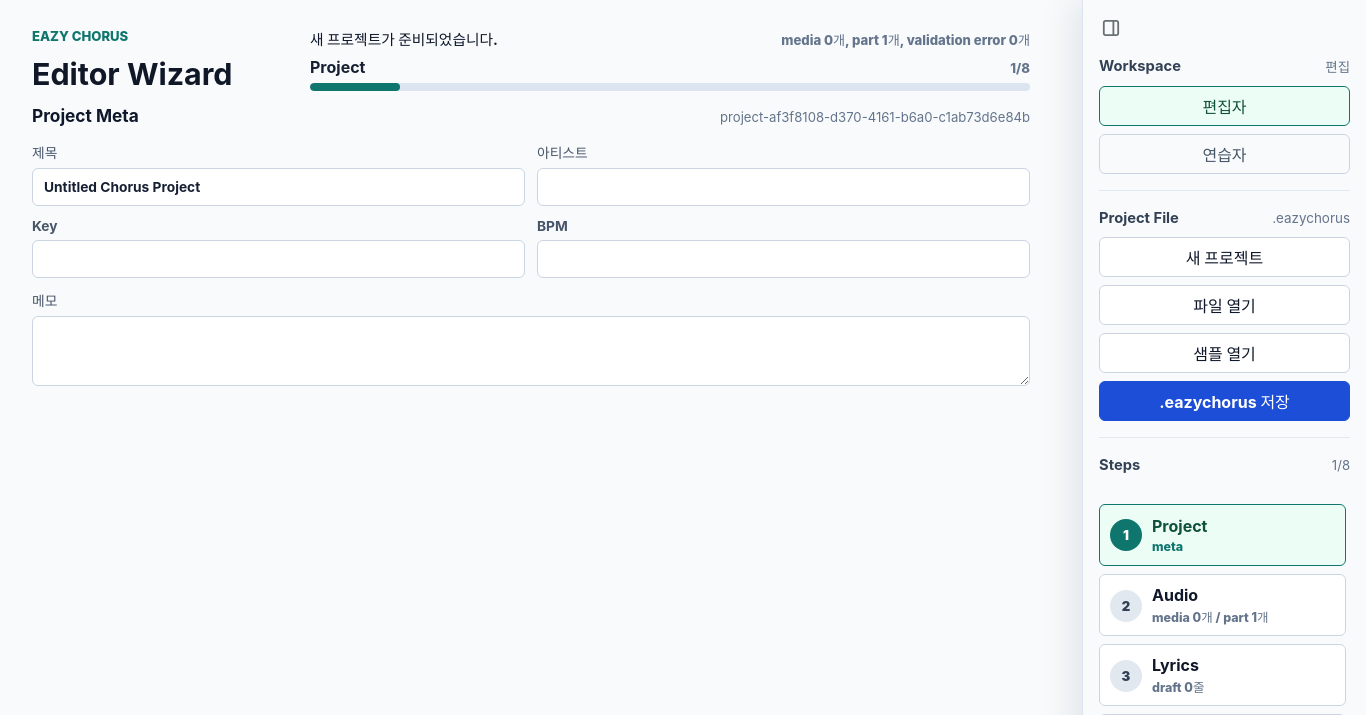
Scenario: HomePage › adds a part from the Audio step form
Click the button "2 Audio media 0개 / part 1개" at (1222, 605), box [1099, 574, 1346, 636]
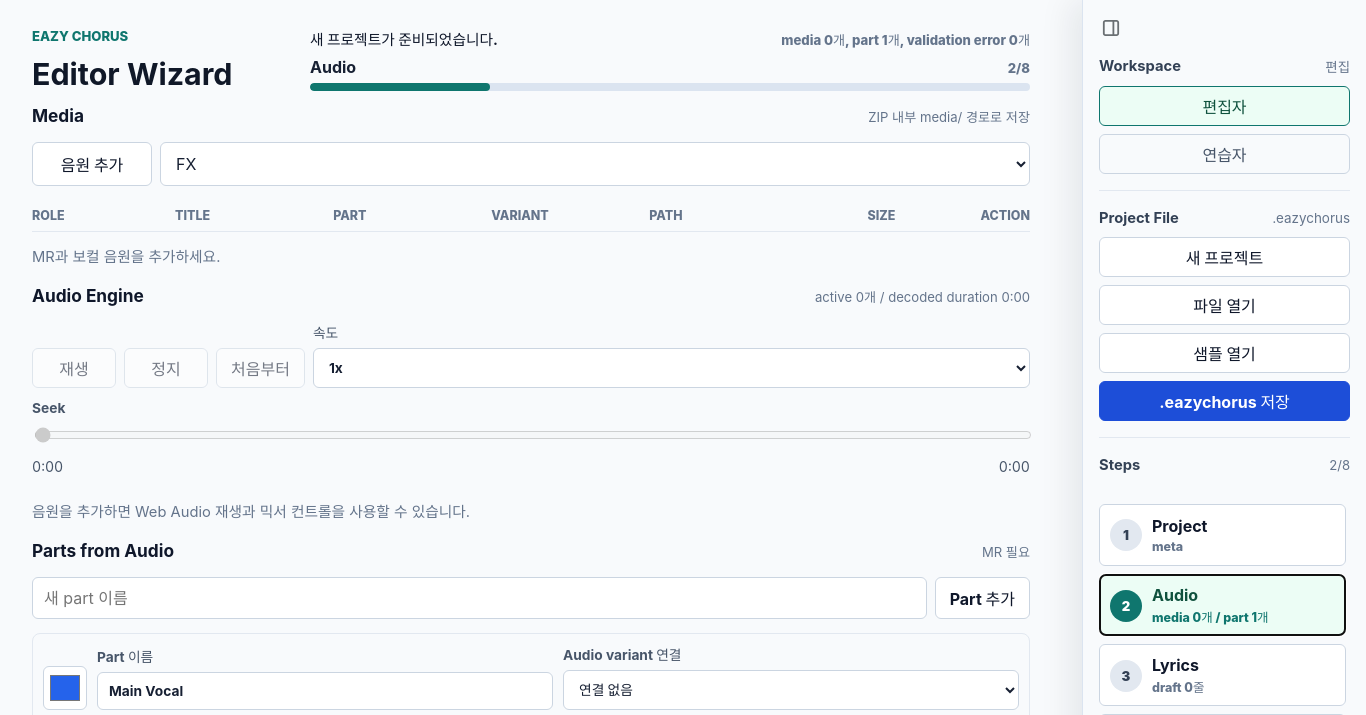
Type "Upper Harmony" into the field labelled "새 part 이름" at (479, 598), box [32, 577, 927, 619]
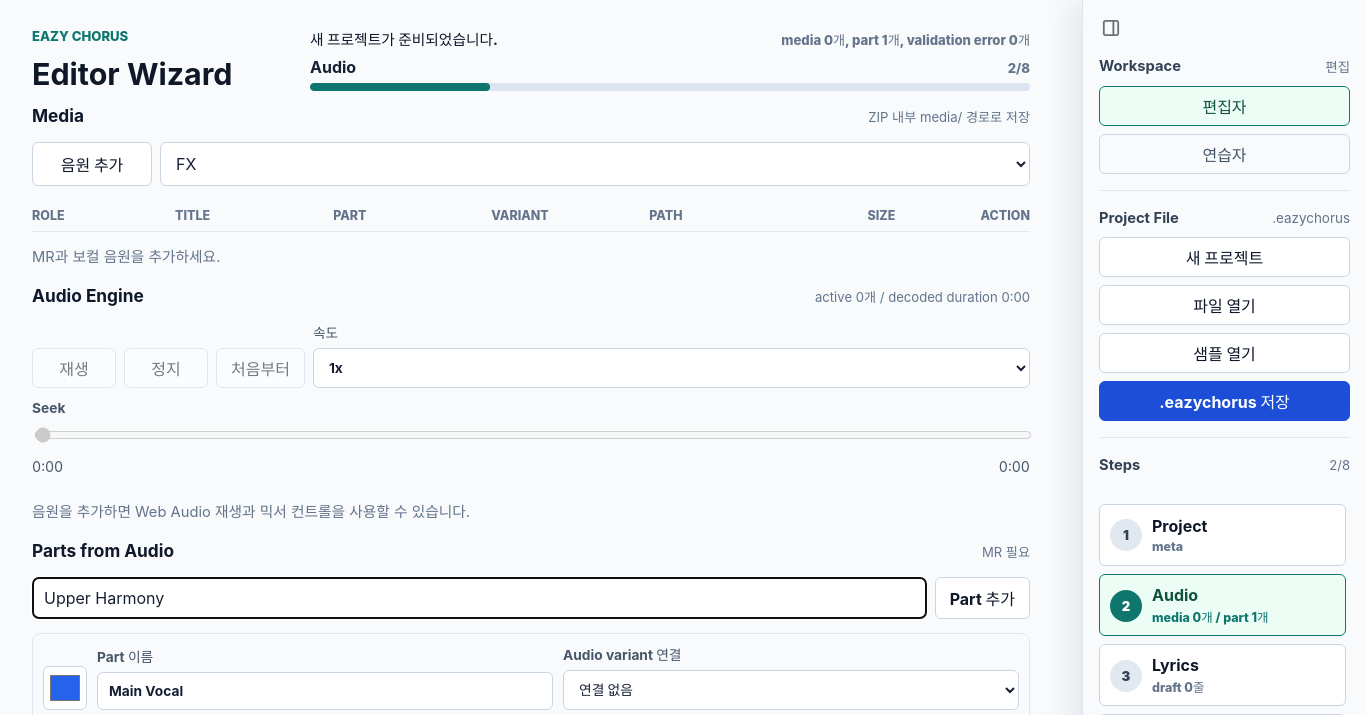
Click the button "Part 추가" at (982, 598), box [935, 577, 1030, 619]
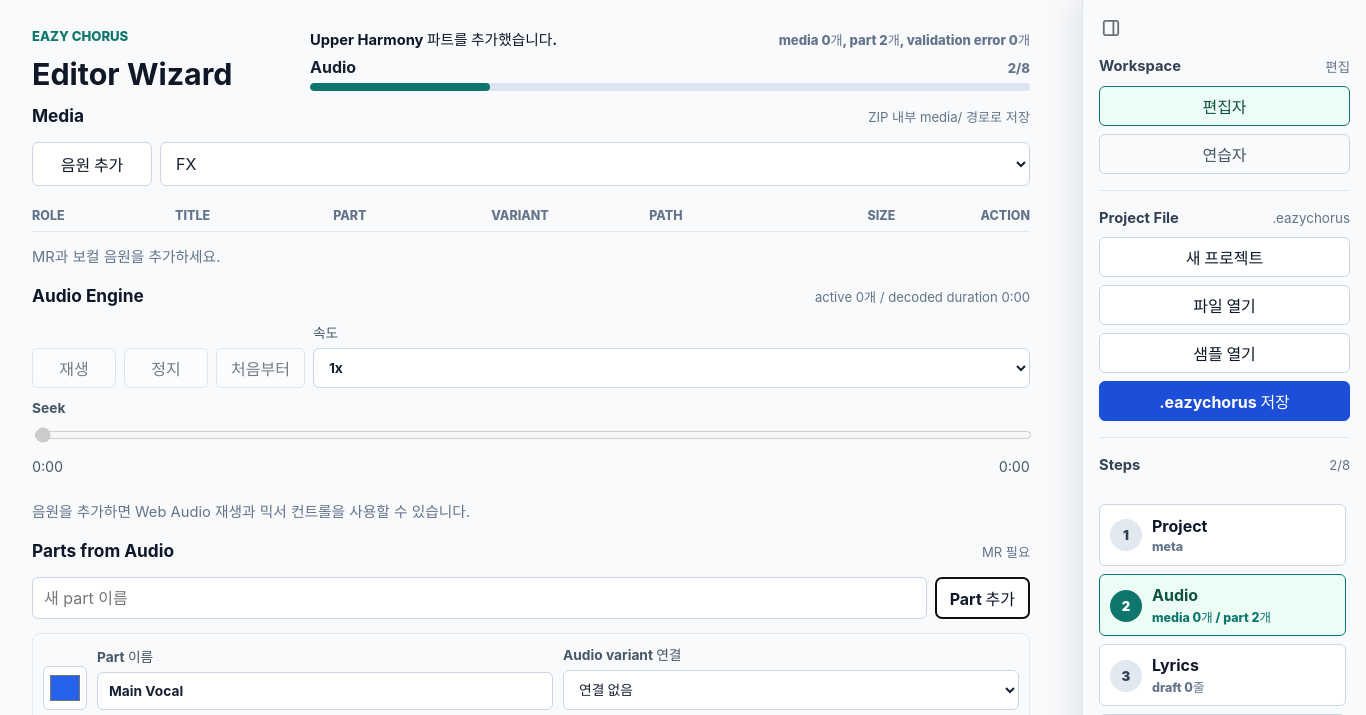
Now the text "media 0개, part 2개, validation error 0개" is shown, box [779, 30, 1030, 49]
